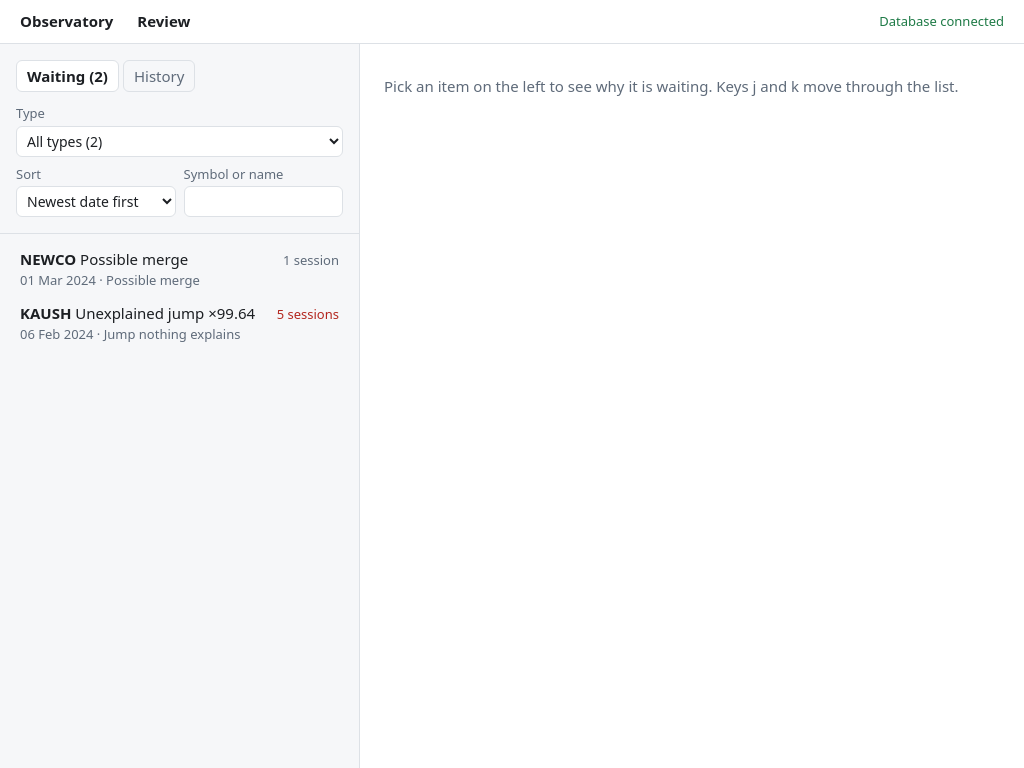
it: the queue sorts by date, filters by type and marks the overdue ones
Step 1. Select "Oldest date first" in the dropdown labelled "Sort" → [96, 202], box [16,186,176,217]
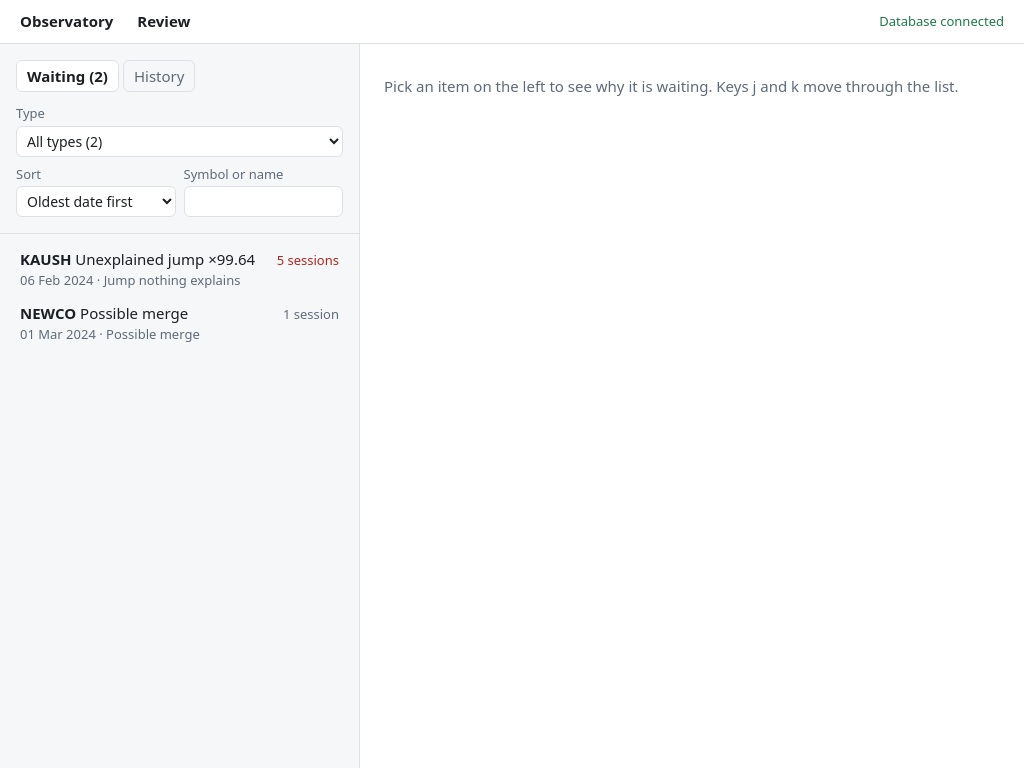
Step 2. Select "Possible merge (1)" in the dropdown labelled "Type" → [180, 141], box [16,126,343,156]
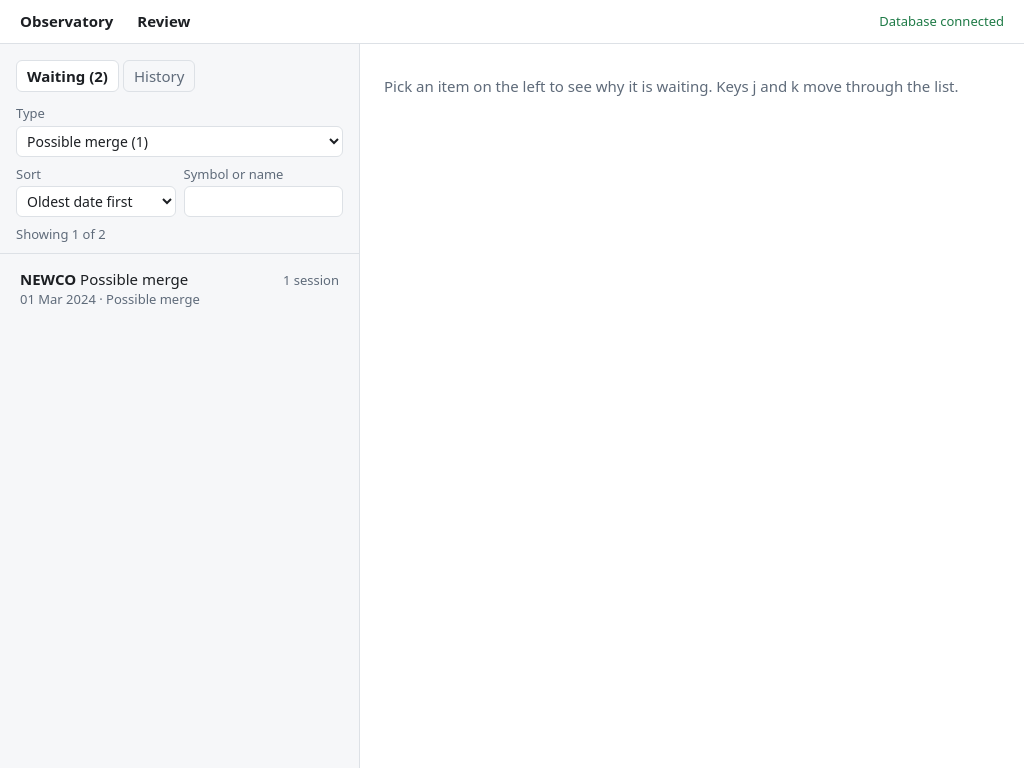
Check: the text "Showing 1 of 2" is shown, box [16,225,106,243]
